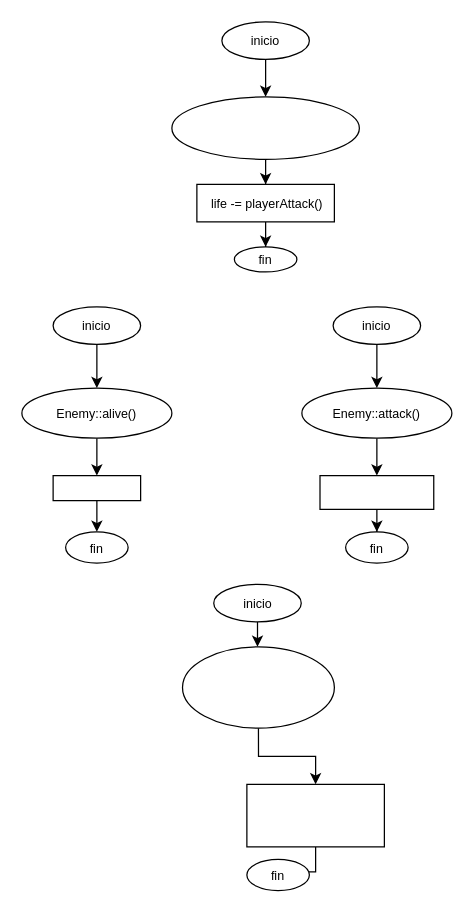
The diagram is 474 pixels wide and 913 high, and some of its shapes have lost their labels. Here are the shapes that lost their labels. From the top down, the centre of each, then its label:
(265,127): Enemy::getDamage(const player)
(96,487): return life > 0
(376,491): return damage
(257,687): generateEnemy(life,attack, mechanic
(315,815): Enemy enemies ={life, ttack, mechanic} return enemy
